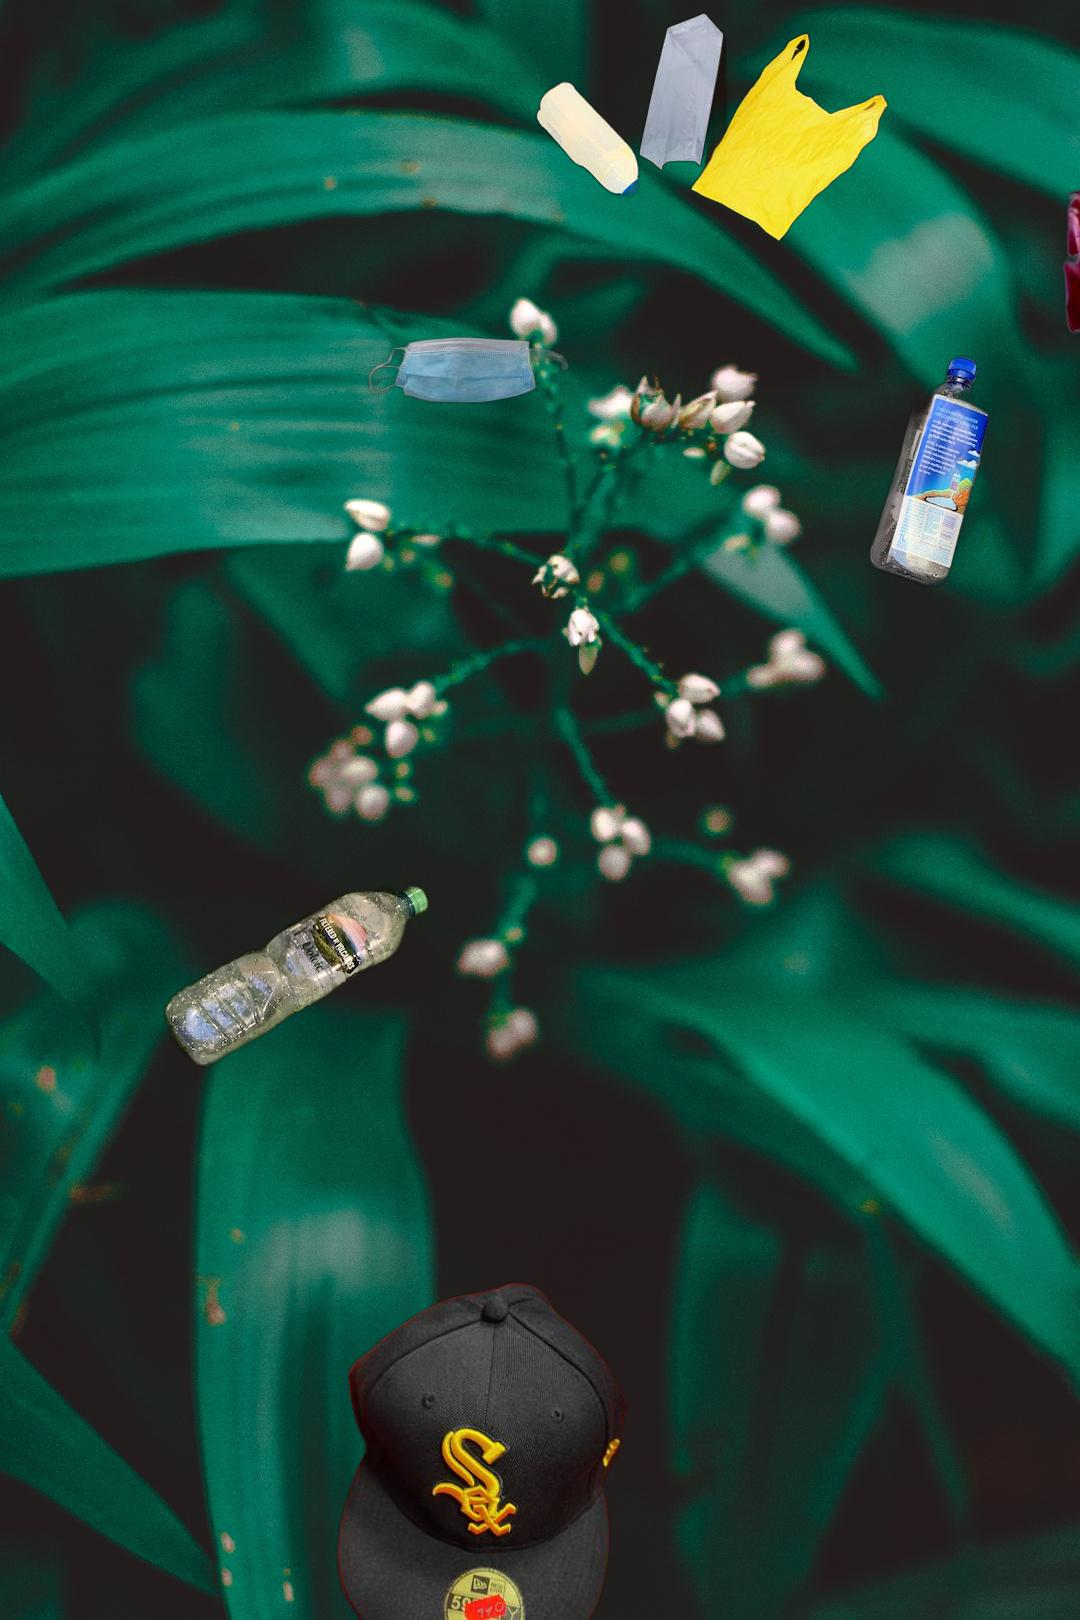biological: (1058, 18, 1080, 542)
clothes: (334, 1278, 629, 1620)
plastic-bag: (636, 11, 891, 243)
plastic-bottles: (160, 879, 434, 1072), (862, 351, 994, 591), (532, 76, 644, 202)
trash: (365, 334, 573, 406)
